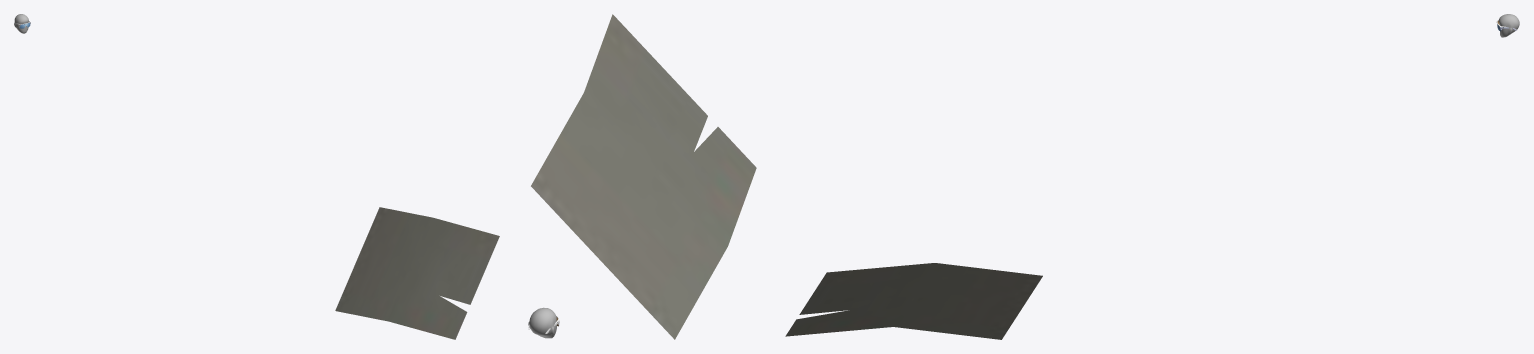
File: spy+monolith.glb
The picture shows the model from 3 angles, left to right: view 1: azimuth 30°, elevation 25°; view 2: azimuth 150°, elevation 25°; view 3: azimuth 270°, elevation 25°; orthographic projection. The views are drawn at different scales.
Parts seen in each view (by area): view 1: Object_4; view 2: Object_4, HeadOccluder; view 3: Object_4.
Boxes of the visible parts, left/top/right/bottom form: Object_4: left=335, top=207, right=499, bottom=339; Object_4: left=531, top=14, right=756, bottom=339; HeadOccluder: left=528, top=307, right=556, bottom=338; Object_4: left=785, top=263, right=1042, bottom=339.
Size of the model in its own units: 3.01 by 2.35 by 6.36.
Materials: 7 (6 with a texture image).
